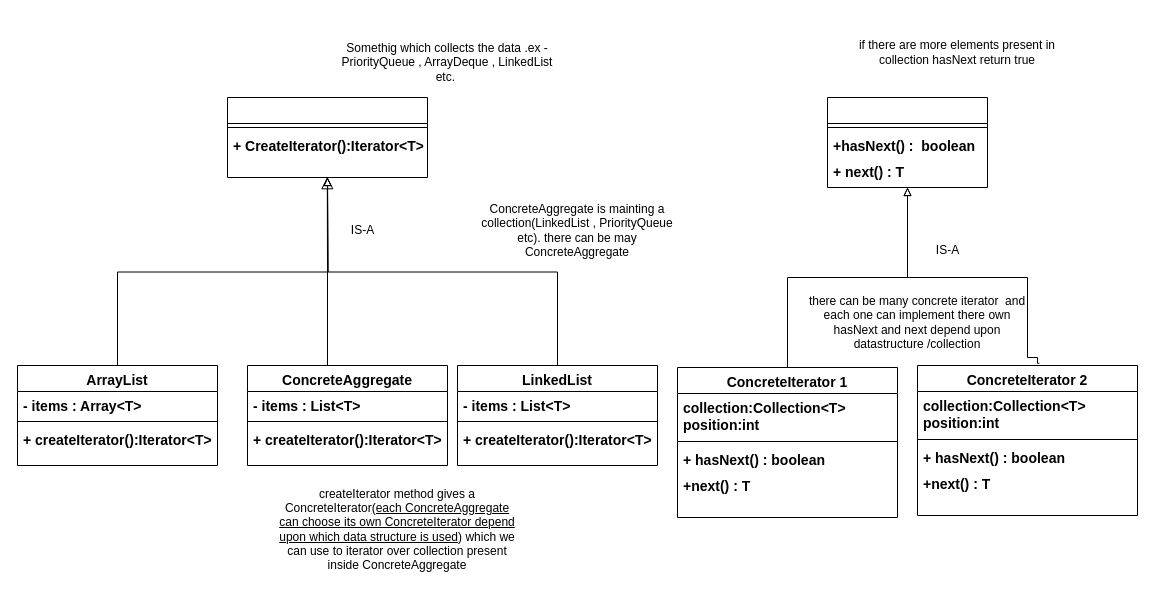
Some shapes in this 1155 by 590 pixel diagram are drawn without their labels. The box of each missing label's shape, as (x1, y1, x2, y2) in pixels:
Aggregate: (226, 96, 428, 178)
Iterator: (826, 96, 988, 188)
